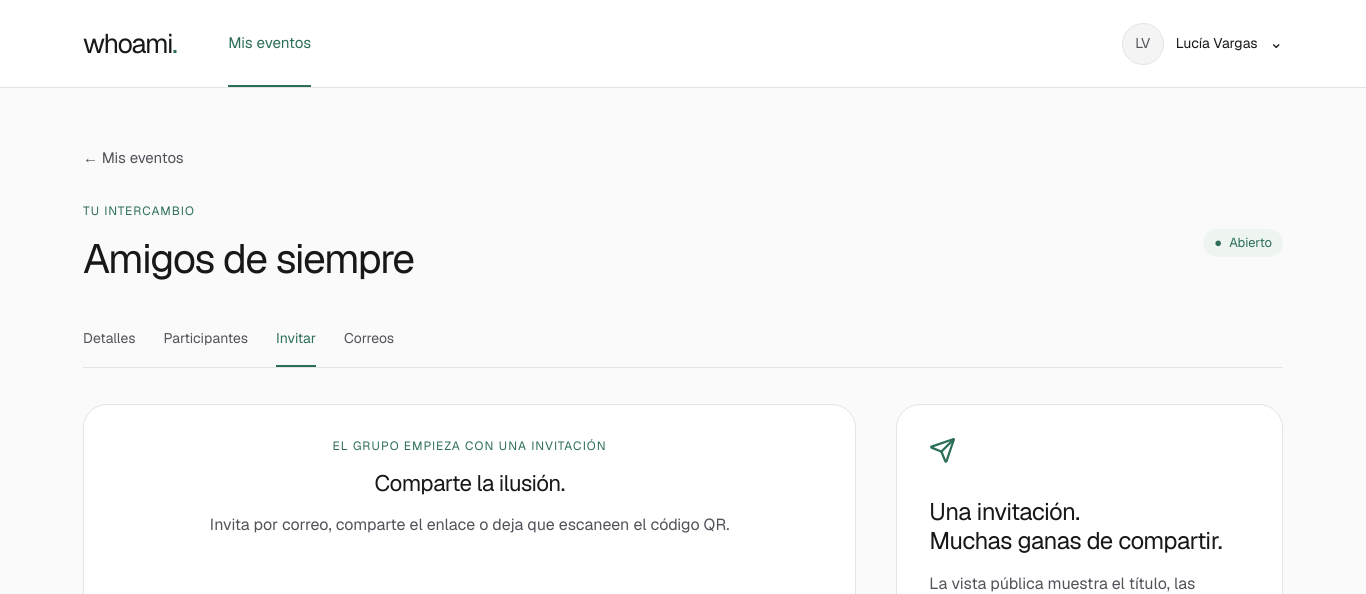
Test: Recuperación y recursos externos › el QR se obtiene con Bearer como Blob y se revoca al salir
Click the link "Mis eventos".
click(270, 44)  # box [228,0,311,87]
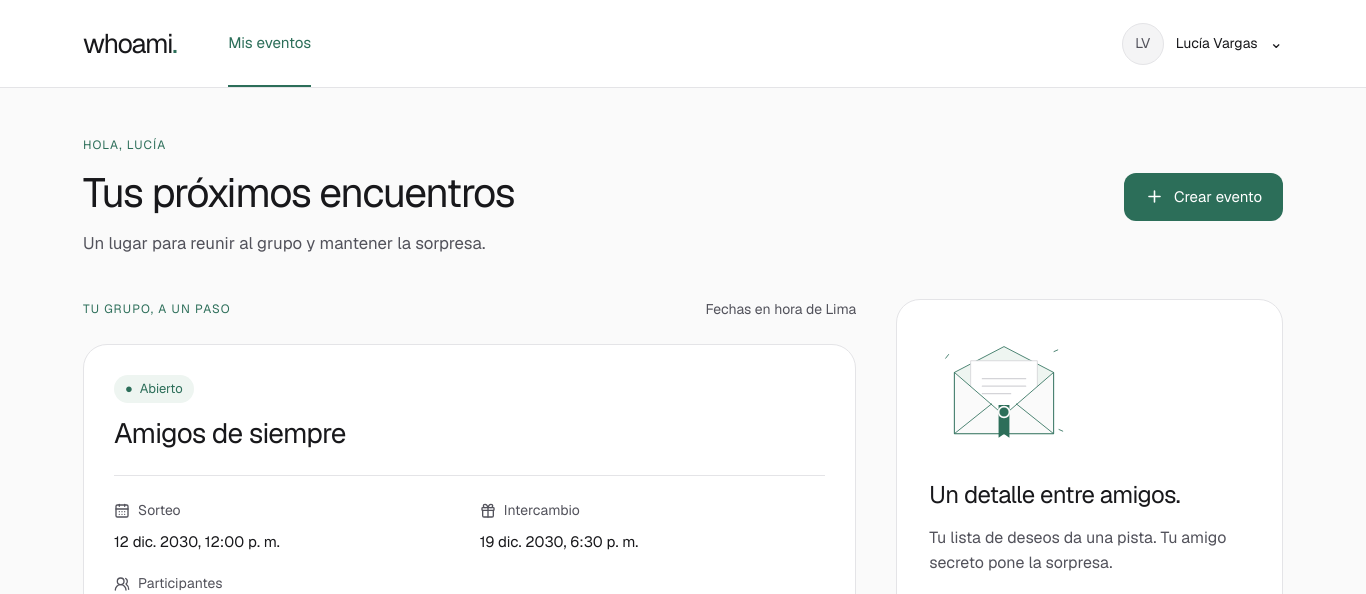
Expected: the heading "Tus próximos encuentros" is shown, [83,169,514,218]
